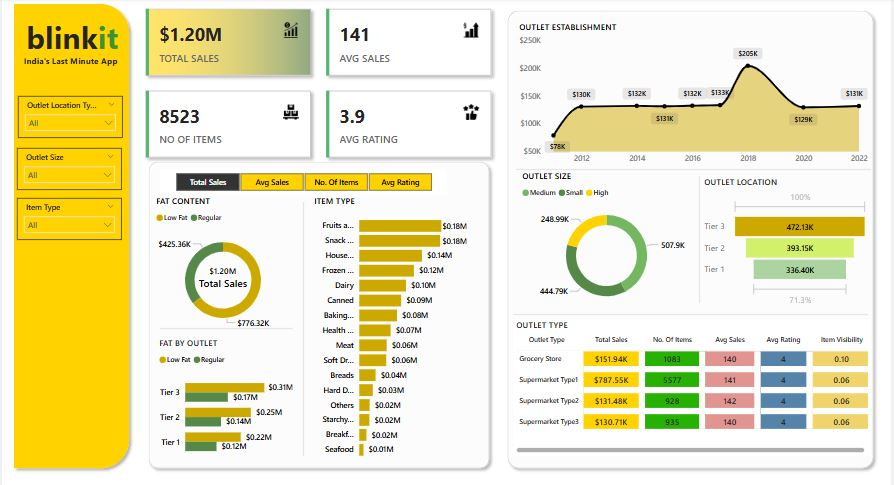

Layout of this report page (visuals, bound fields, positions):
{"tool":"powerbi","page":{"name":"Page 1","canvas":[1400,800],"ordinal":0},"visuals":[{"type":"shape","box":[10,0,200,750],"z":0},{"type":"textbox","box":[25.7,23.9,170.9,75.3],"z":1000},{"type":"textbox","box":[18.4,84.5,178.2,27.6],"z":2000},{"type":"cardVisual","fields":{"Data":["BlinkIT Grocery Data.Total Sales","BlinkIT Grocery Data.Avg Sales","BlinkIT Grocery Data.No. Of Items","BlinkIT Grocery Data.Avg Rating"]},"box":[209.4,0,579.5,269.3],"z":3000},{"type":"shape","box":[222,248.8,554.3,500.8],"z":4000},{"type":"slicer","fields":{"Values":["Metrics.Metrics"]},"box":[248.8,269.3,452,40.9],"z":5000},{"type":"donutChart","title":"FAT CONTENT","fields":{"Y":["BlinkIT Grocery Data.Total Sales"],"Category":["BlinkIT Grocery Data.Item Fat Content"]},"box":[237.8,310.2,220.5,223.6],"z":6000},{"type":"cardVisual","fields":{"Data":["BlinkIT Grocery Data.Total Sales"]},"box":[283.5,400,129.1,80.3],"z":7000},{"type":"clusteredBarChart","title":"FAT BY OUTLET","fields":{"Y":["BlinkIT Grocery Data.Total Sales"],"Category":["BlinkIT Grocery Data.Outlet Location Type"],"Series":["BlinkIT Grocery Data.Item Fat Content"]},"box":[242.5,533.9,220.5,201.6],"z":8000},{"type":"shape","box":[248.8,499.2,209.4,42.5],"z":9000},{"type":"shape","box":[463,321.3,23.6,400],"z":10000},{"type":"barChart","title":"ITEM TYPE","fields":{"Y":["BlinkIT Grocery Data.Total Sales"],"Category":["BlinkIT Grocery Data.Item Type"]},"box":[486.6,310.2,250.4,425.2],"z":11000},{"type":"shape","box":[787.4,11,593.7,738.6],"z":12000},{"type":"lineChart","title":"OUTLET ESTABLISHMENT","fields":{"Y":["BlinkIT Grocery Data.Total Sales"],"Category":["BlinkIT Grocery Data.Outlet Establishment Year"]},"box":[809.4,36.2,559.1,234.6],"z":13000},{"type":"shape","box":[809.4,248.8,559.1,42.5],"z":14000},{"type":"donutChart","title":"OUTLET SIZE","fields":{"Category":["BlinkIT Grocery Data.Outlet Size"],"Y":["Sum(BlinkIT Grocery Data.Sales)"]},"box":[814.2,270.9,275.6,225.2],"z":15000},{"type":"shape","box":[1085,280.3,26.8,200],"z":16000},{"type":"funnel","title":"OUTLET LOCATION","fields":{"Category":["BlinkIT Grocery Data.Outlet Location Type"],"Y":["Sum(BlinkIT Grocery Data.Sales)"]},"box":[1100.8,280.3,267.7,209.4],"z":17000},{"type":"shape","box":[804.7,477.2,559.1,42.5],"z":18000},{"type":"pivotTable","title":"OUTLET TYPE","fields":{"Rows":["BlinkIT Grocery Data.Outlet Type"],"Values":["BlinkIT Grocery Data.Total Sales","BlinkIT Grocery Data.No. Of Items","BlinkIT Grocery Data.Avg Sales","BlinkIT Grocery Data.Avg Rating","Avg(BlinkIT Grocery Data.Item Visibility)"]},"box":[804.7,505.5,563.8,215.7],"z":19000},{"type":"slicer","fields":{"Values":["BlinkIT Grocery Data.Outlet Location Type"]},"box":[25.2,154.3,165.4,66.1],"z":20000},{"type":"slicer","fields":{"Values":["BlinkIT Grocery Data.Outlet Size"]},"box":[23.6,236.2,165.4,66.1],"z":20001},{"type":"slicer","fields":{"Values":["BlinkIT Grocery Data.Item Type"]},"box":[23.6,315,165.4,66.1],"z":20002}]}

Visuals, with their boxes on the page's 1400x800 design canvas (x1, y1, x2, y2). These are canvas units, not pixel positions in the 894x485 screenshot, which may show the page scaled, cropped or inside an application window:
shape: l=10, t=0, r=210, b=750
textbox: l=26, t=24, r=197, b=99
textbox: l=18, t=84, r=197, b=112
cardVisual - BlinkIT Grocery Data.Total Sales x BlinkIT Grocery Data.Avg Sales: l=209, t=0, r=789, b=269
shape: l=222, t=249, r=776, b=750
slicer - Metrics.Metrics: l=249, t=269, r=701, b=310
"FAT CONTENT" donutChart: l=238, t=310, r=458, b=534
cardVisual - BlinkIT Grocery Data.Total Sales: l=284, t=400, r=413, b=480
"FAT BY OUTLET" clusteredBarChart: l=242, t=534, r=463, b=736
shape: l=249, t=499, r=458, b=542
shape: l=463, t=321, r=487, b=721
"ITEM TYPE" barChart: l=487, t=310, r=737, b=735
shape: l=787, t=11, r=1381, b=750
"OUTLET ESTABLISHMENT" lineChart: l=809, t=36, r=1368, b=271
shape: l=809, t=249, r=1368, b=291
"OUTLET SIZE" donutChart: l=814, t=271, r=1090, b=496
shape: l=1085, t=280, r=1112, b=480
"OUTLET LOCATION" funnel: l=1101, t=280, r=1368, b=490
shape: l=805, t=477, r=1364, b=520
"OUTLET TYPE" pivotTable: l=805, t=506, r=1368, b=721
slicer - BlinkIT Grocery Data.Outlet Location Type: l=25, t=154, r=191, b=220
slicer - BlinkIT Grocery Data.Outlet Size: l=24, t=236, r=189, b=302
slicer - BlinkIT Grocery Data.Item Type: l=24, t=315, r=189, b=381
